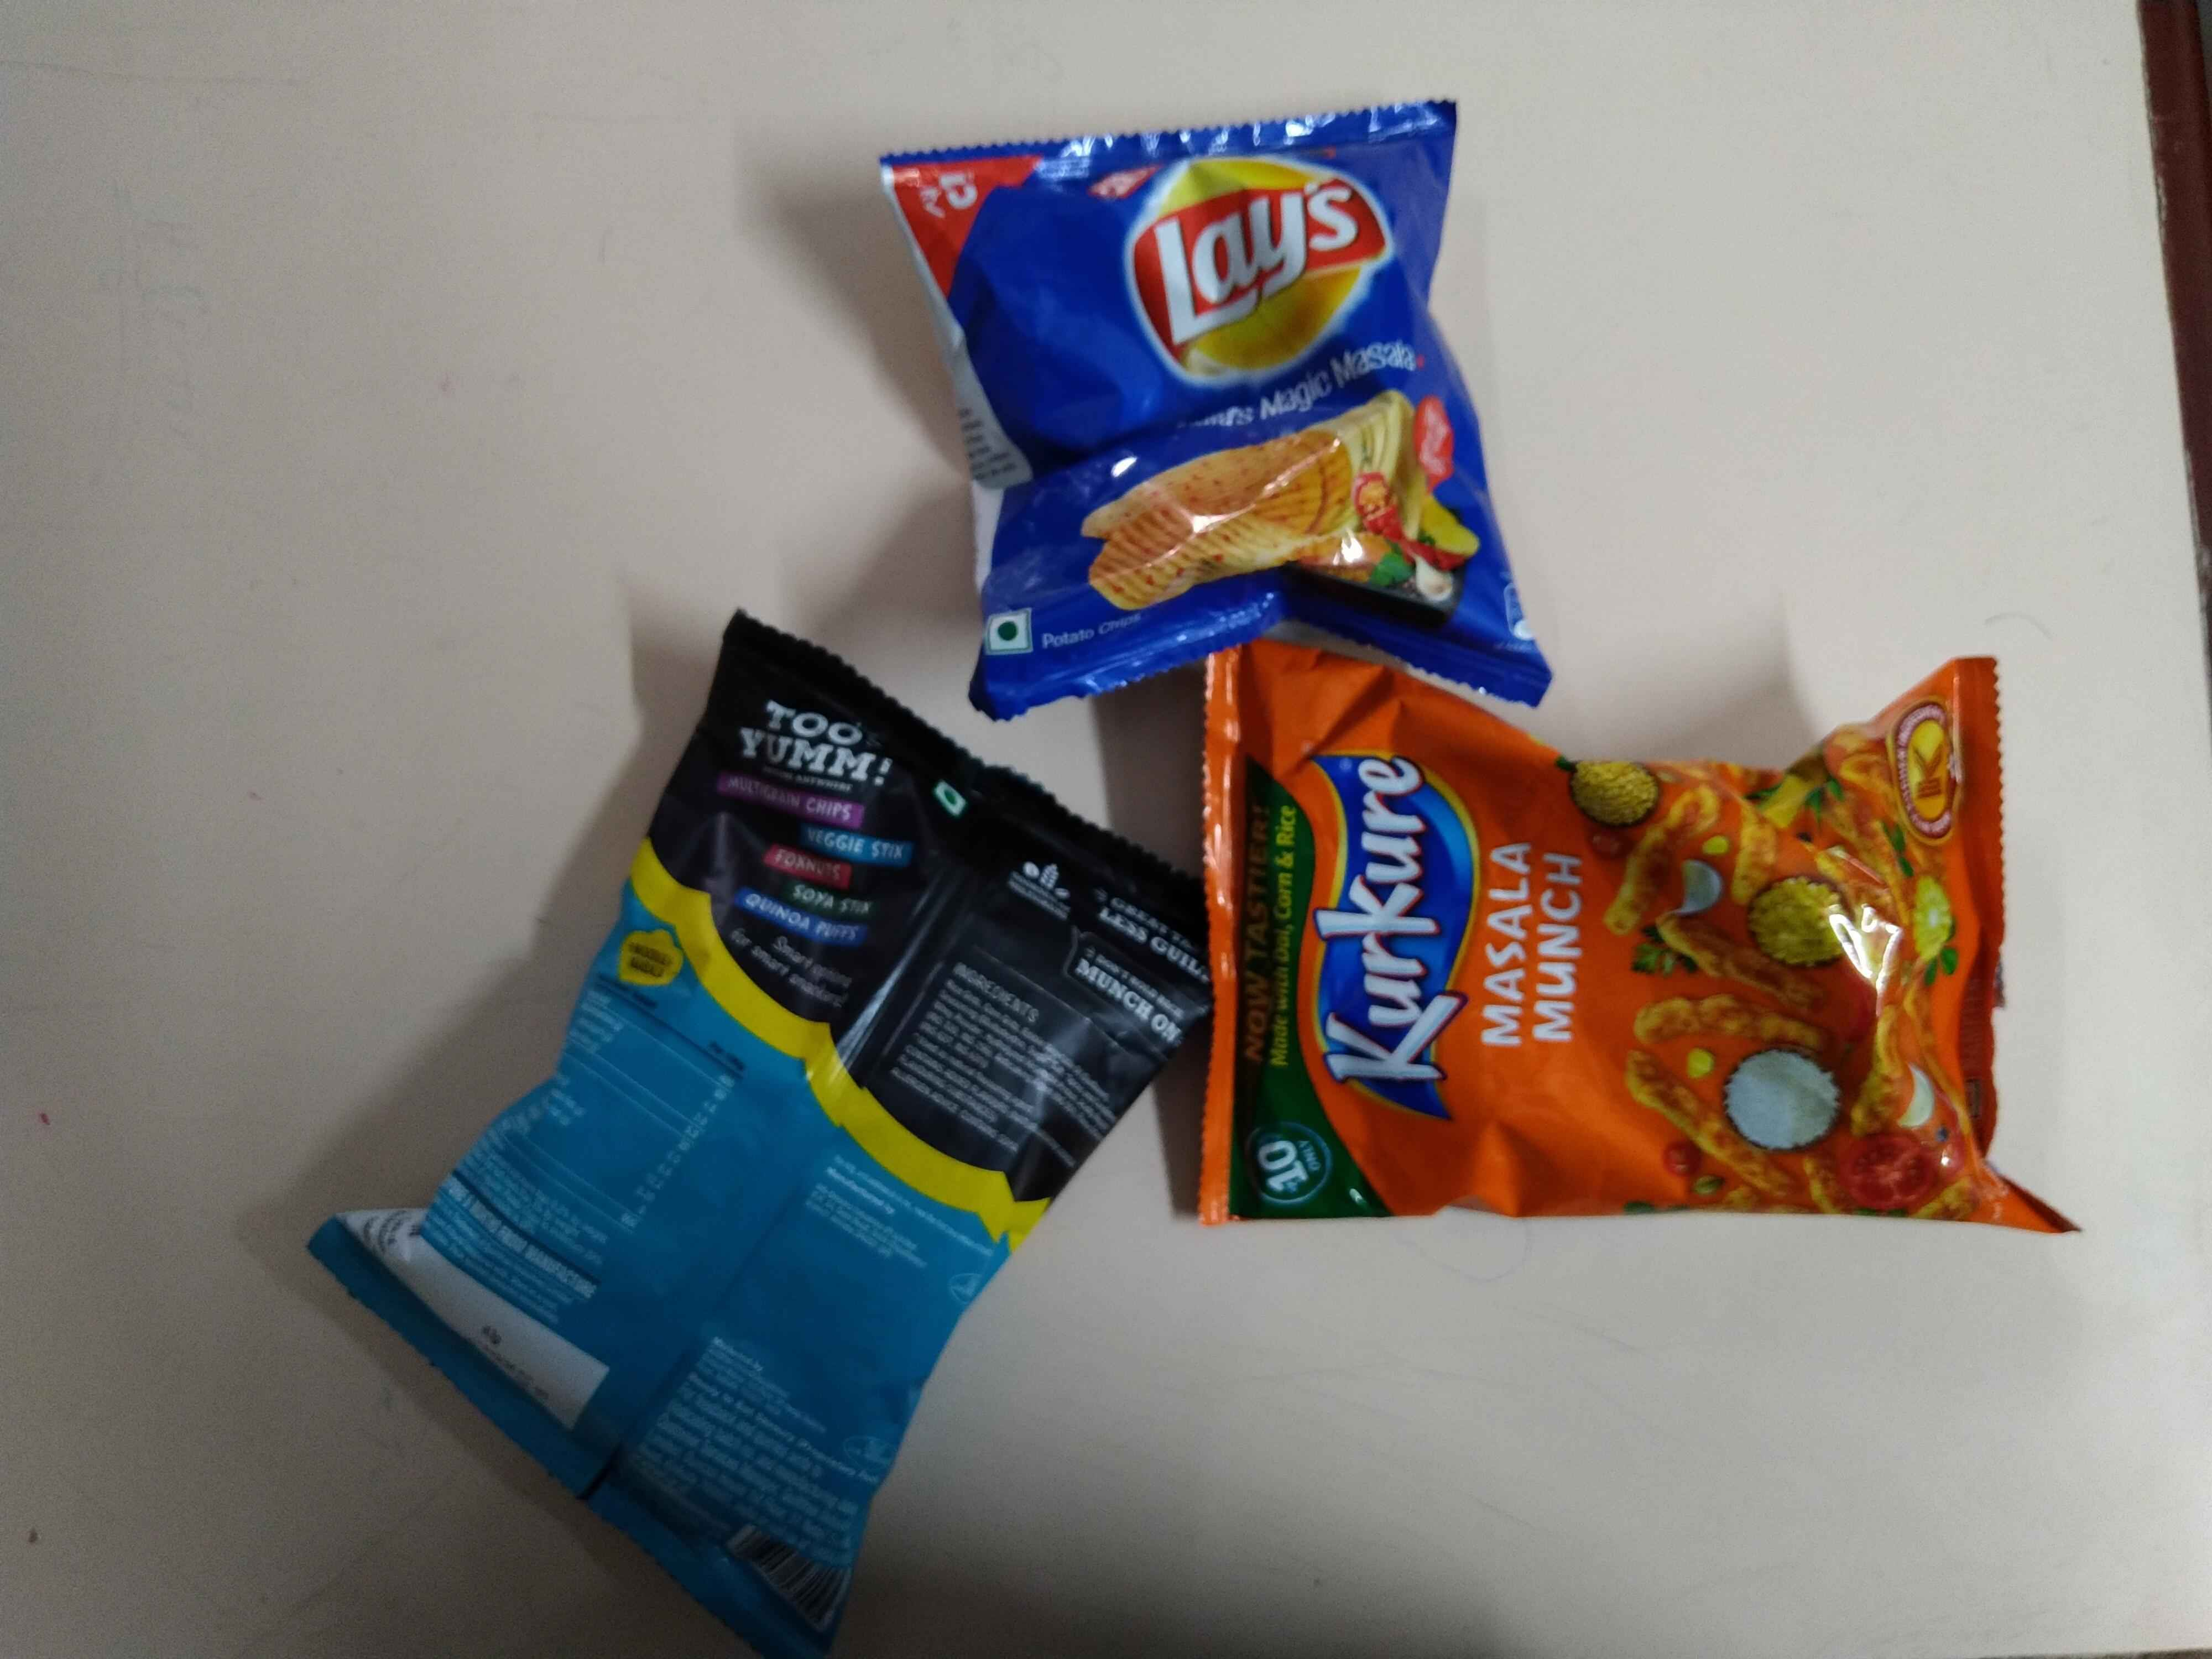Lays: (1125, 139, 1404, 416)
kurkure: (1315, 732, 1480, 1141)
tooyumm: (733, 695, 902, 803)
